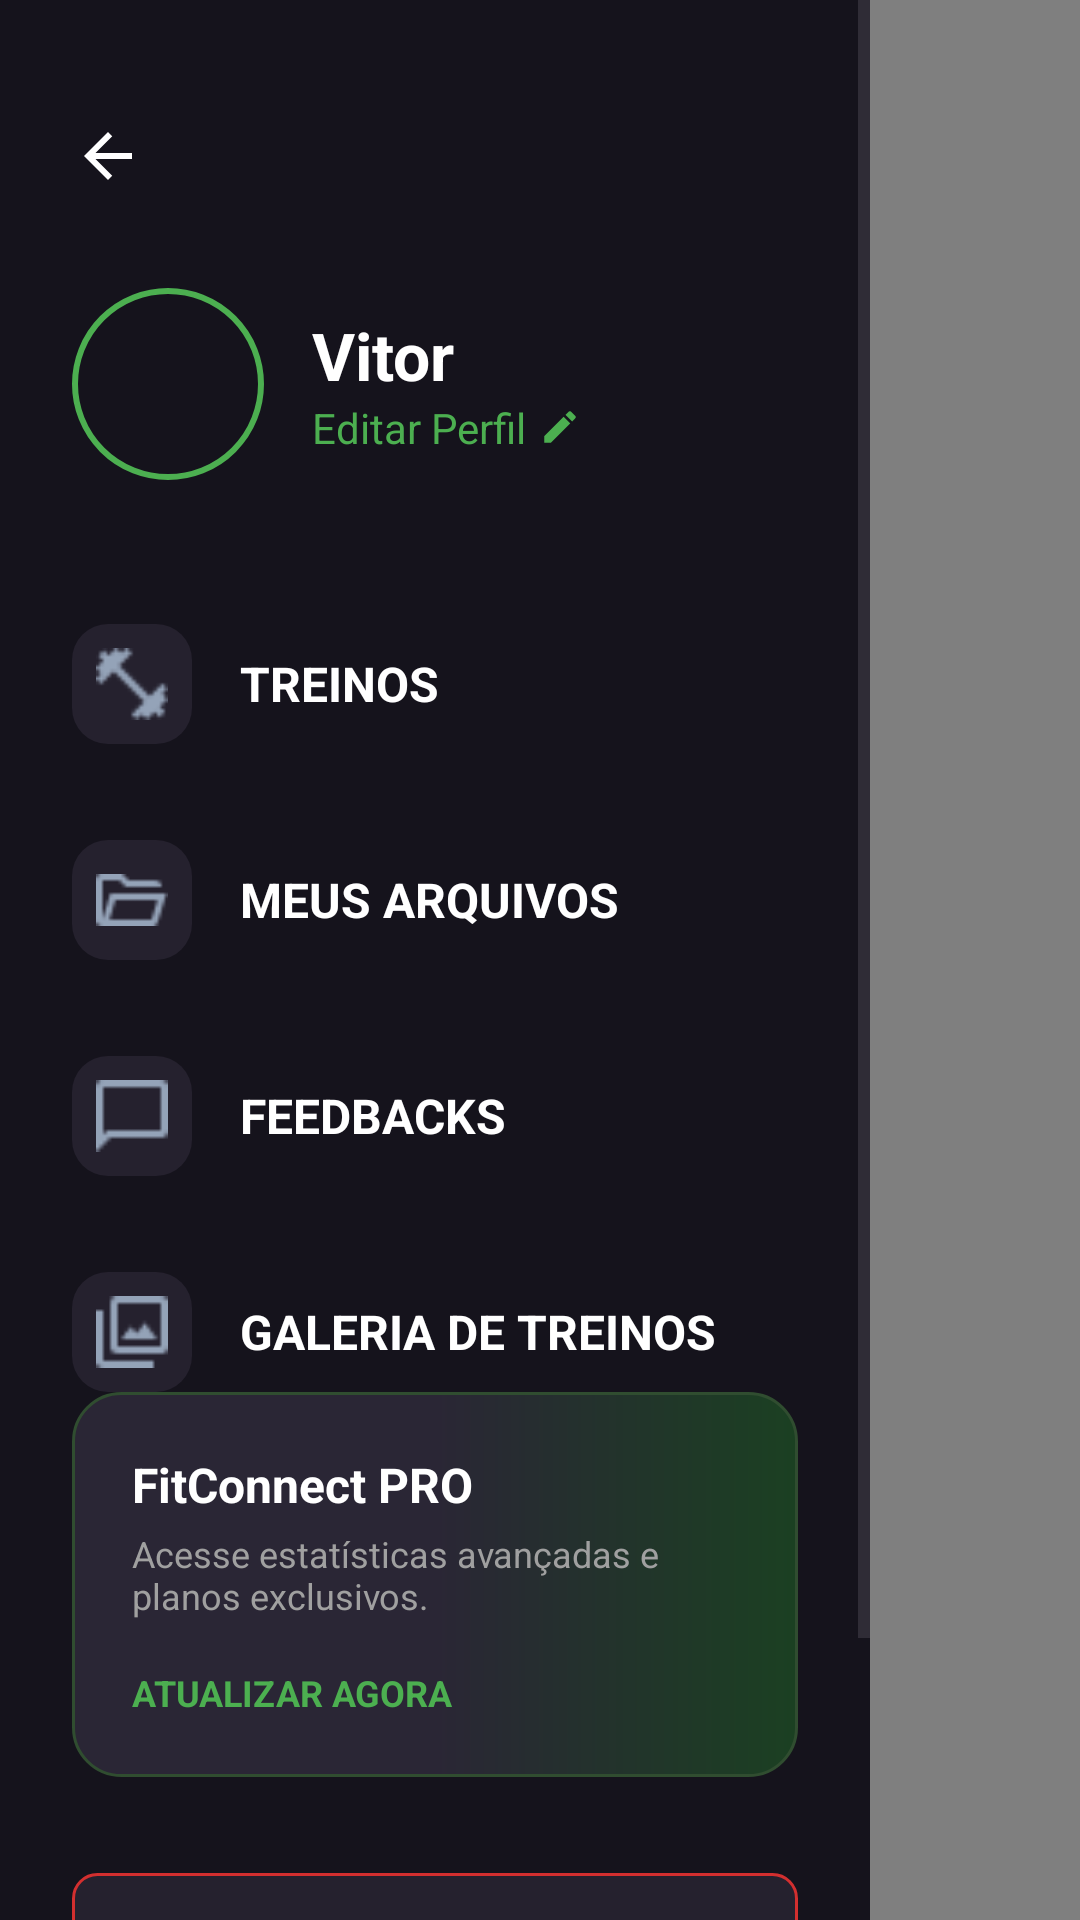

Icon bounding boxes for this 1080×1920 phone screenshot, format BBox(x1, y1, x2, y2):
arrow back: BBox(84, 132, 132, 180)
